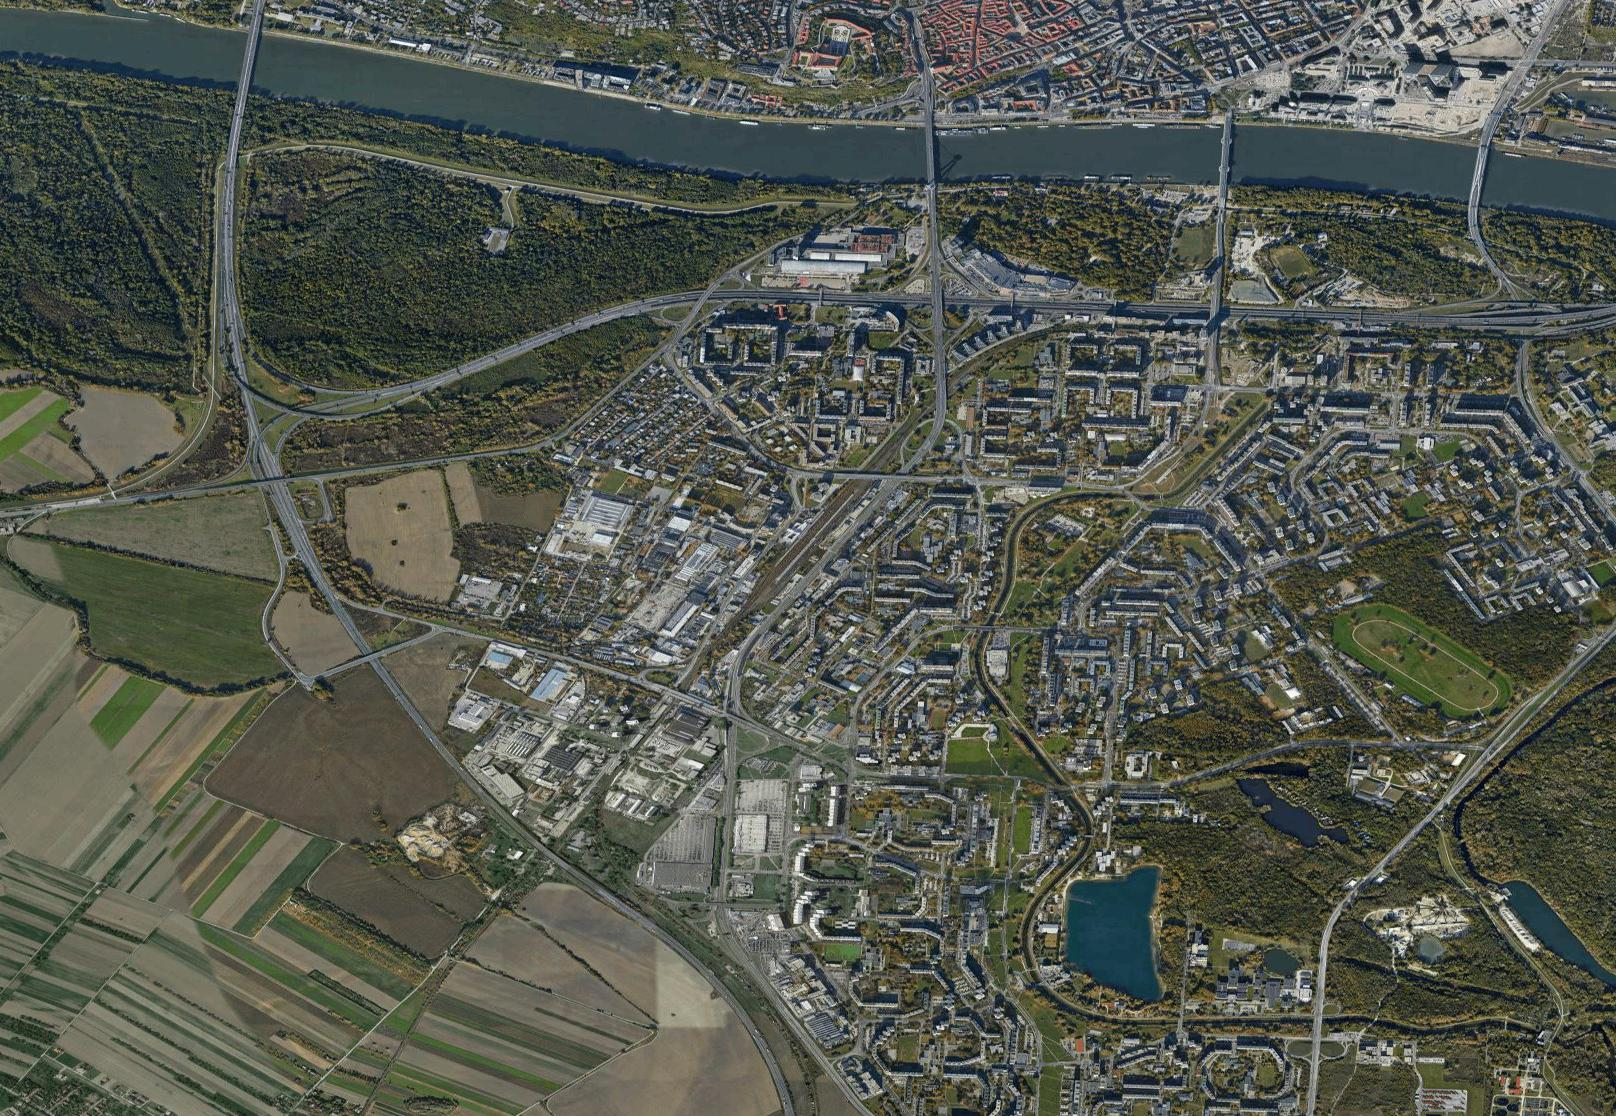bridge: (228, 1, 269, 115), (1463, 126, 1499, 219), (1214, 110, 1239, 187), (921, 109, 943, 190)
motorway: (1447, 625, 1616, 805), (330, 602, 456, 762), (239, 413, 339, 610), (456, 759, 594, 886), (1323, 796, 1447, 932), (215, 112, 266, 413), (596, 880, 720, 983), (1214, 306, 1616, 335), (709, 981, 796, 1116), (311, 354, 491, 417), (492, 301, 635, 366), (992, 291, 1210, 318), (1307, 933, 1335, 1115), (631, 287, 790, 311), (782, 293, 992, 302)
train_station: (766, 482, 874, 597)
